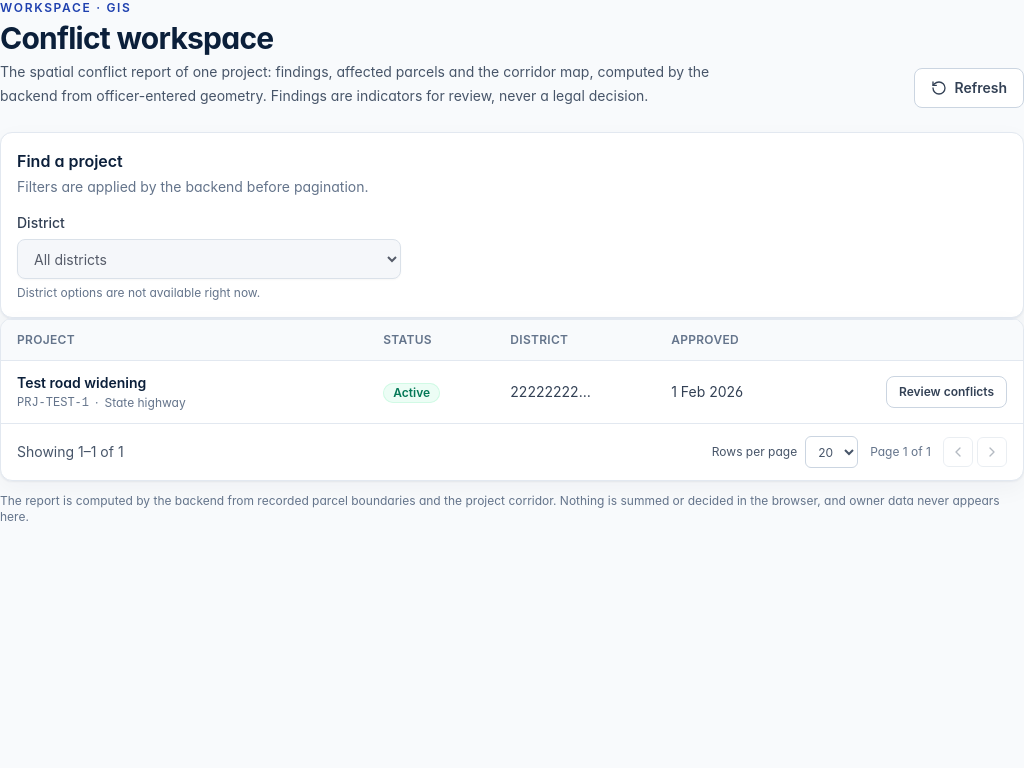
it: ConflictWorkspacePage › lists projects and opens the full conflict report for one of them
This screenshot has width=1024, height=768.
Expected: the heading "Conflict workspace" is shown, [0,20,273,56]
Expected: the text "Test road widening" is shown, [17,374,146,391]
Click the button "Review conflicts".
click(946, 392)  # box [886,376,1007,408]
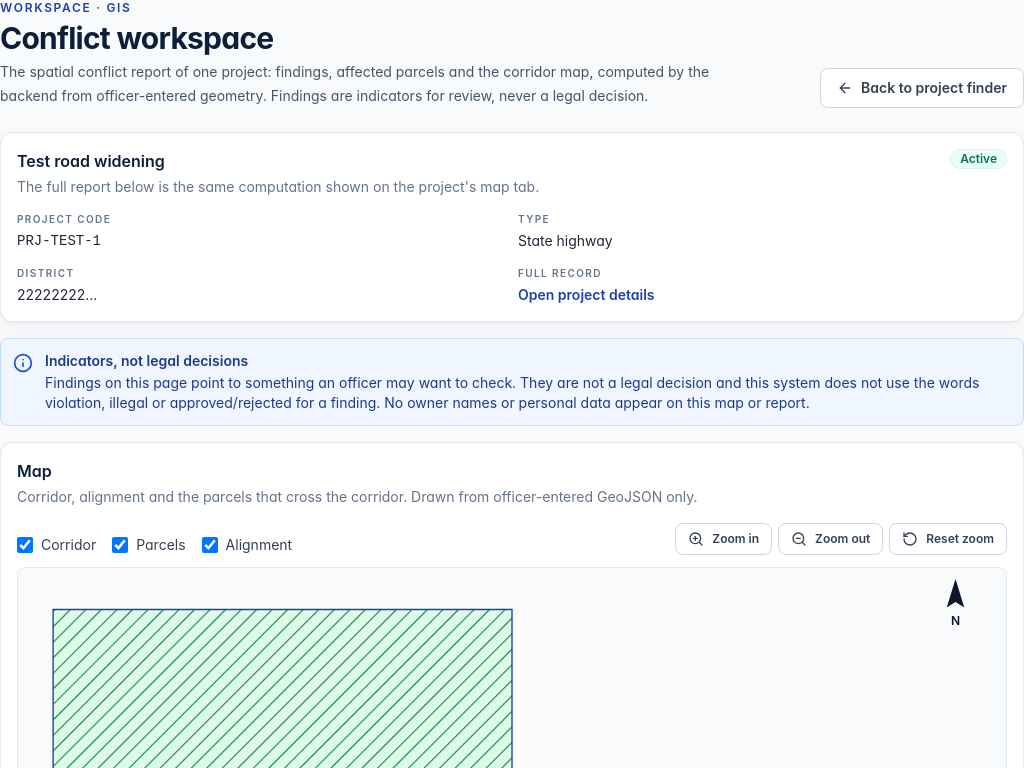
Expected: the button "Review conflicts" is gone
